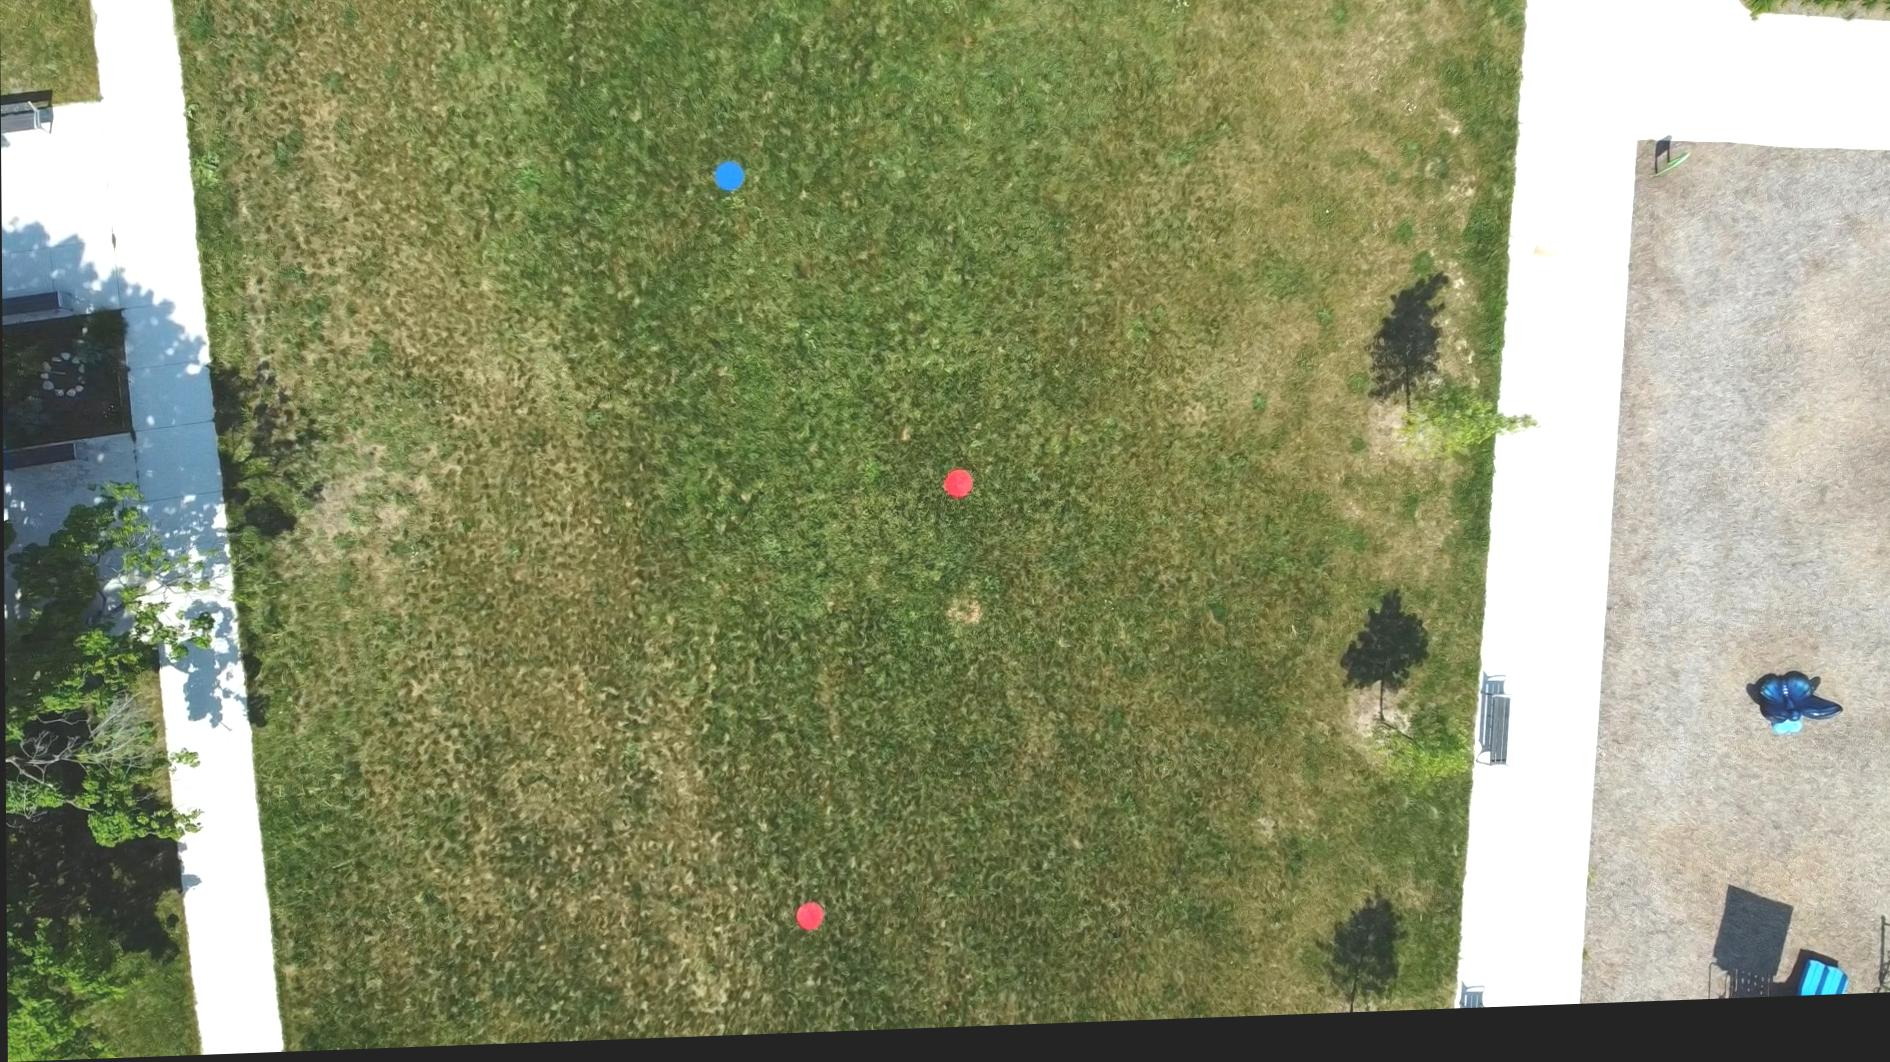Blue: (714, 165, 745, 199)
Red: (791, 906, 826, 939), (940, 475, 975, 506)
